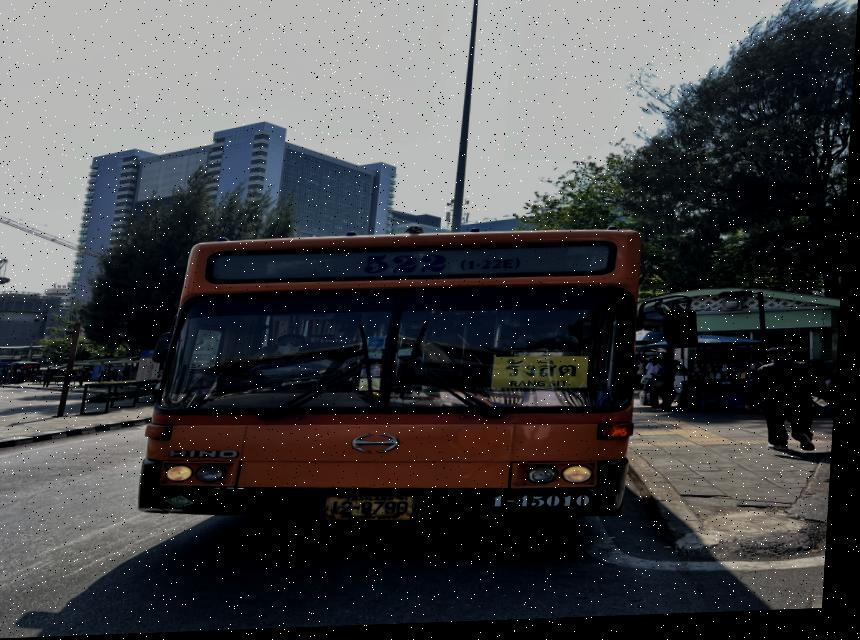BMTA-bus: (144, 236, 645, 530)
Bus Line Number: (363, 250, 531, 282)
Bus Side Number: (488, 494, 604, 518)
Destination Sign: (495, 357, 597, 396)
